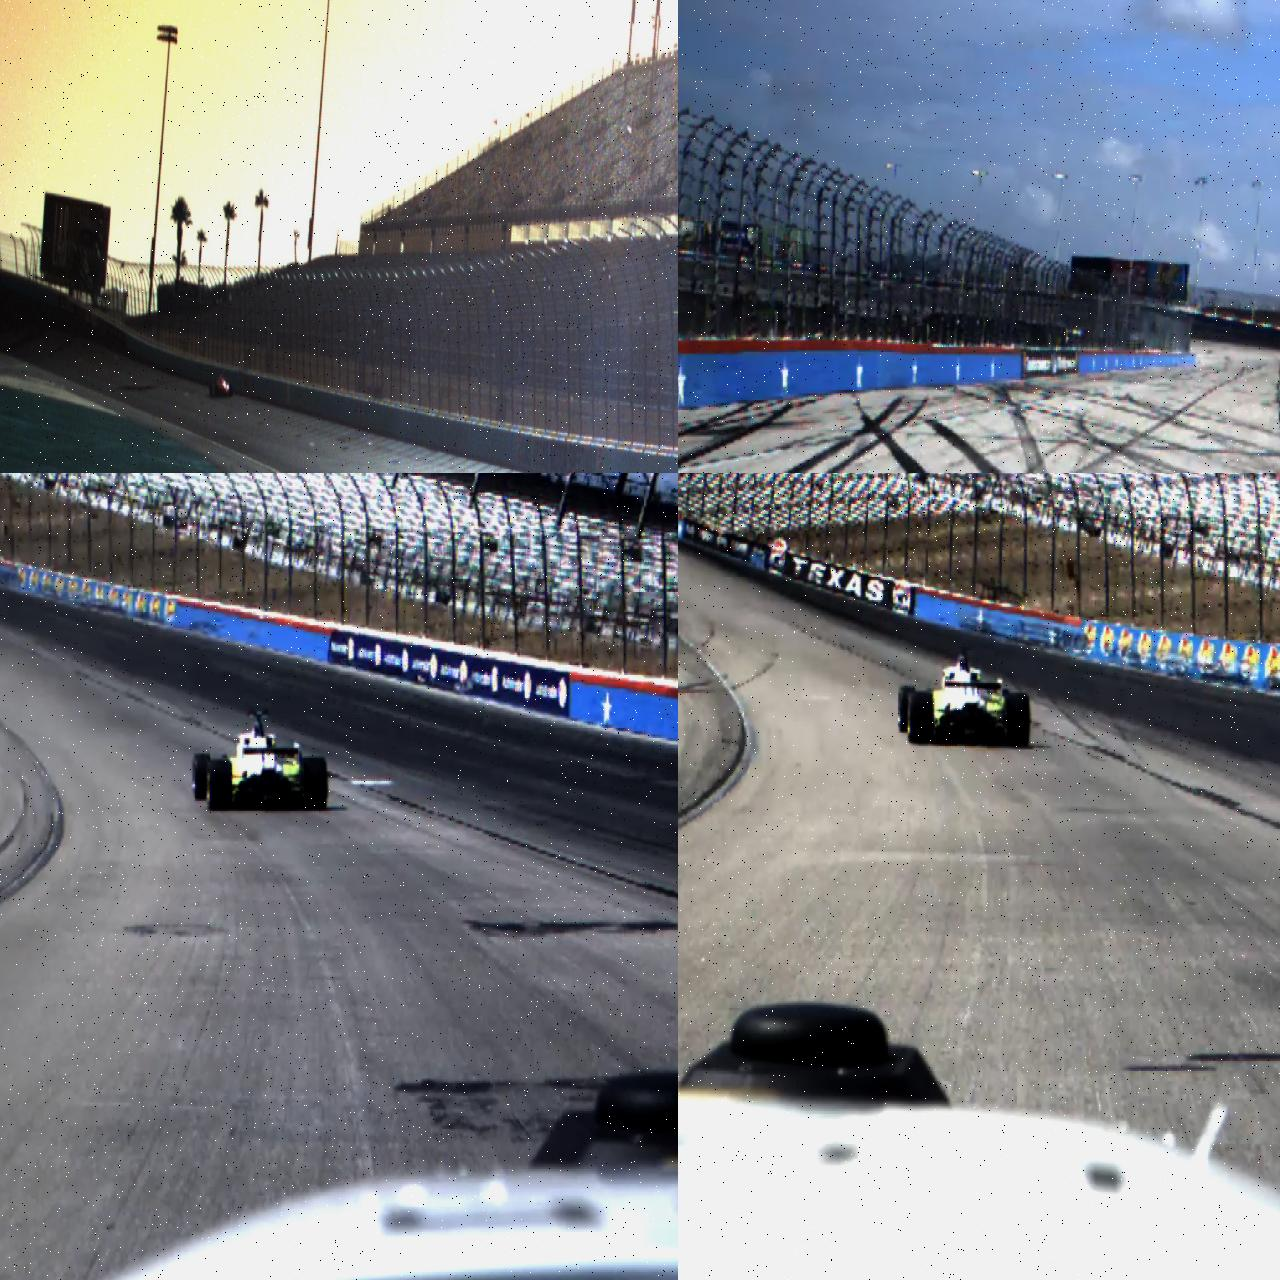AV: (192, 709, 328, 811), (898, 645, 1030, 749), (210, 372, 233, 397)
Wheel: (207, 758, 233, 811), (302, 758, 328, 810), (908, 692, 933, 744), (1008, 694, 1029, 748), (898, 685, 915, 734), (195, 753, 210, 801), (229, 386, 233, 397), (215, 383, 218, 395), (210, 384, 212, 395)
